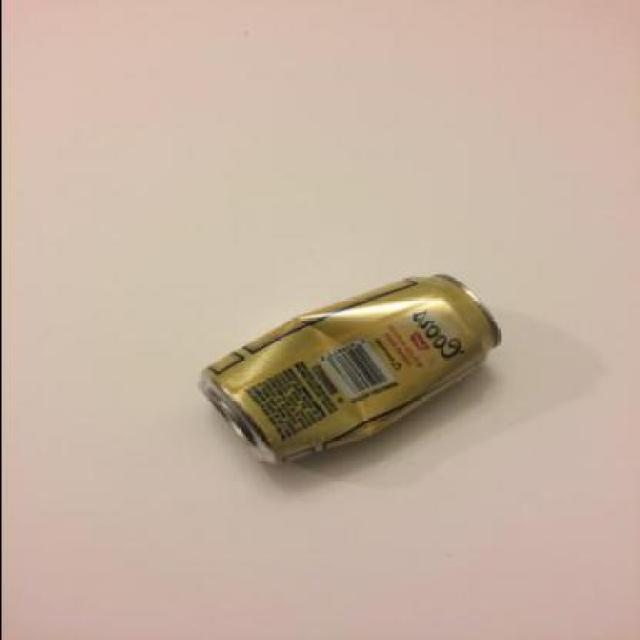METAL: (196, 273, 498, 464)
